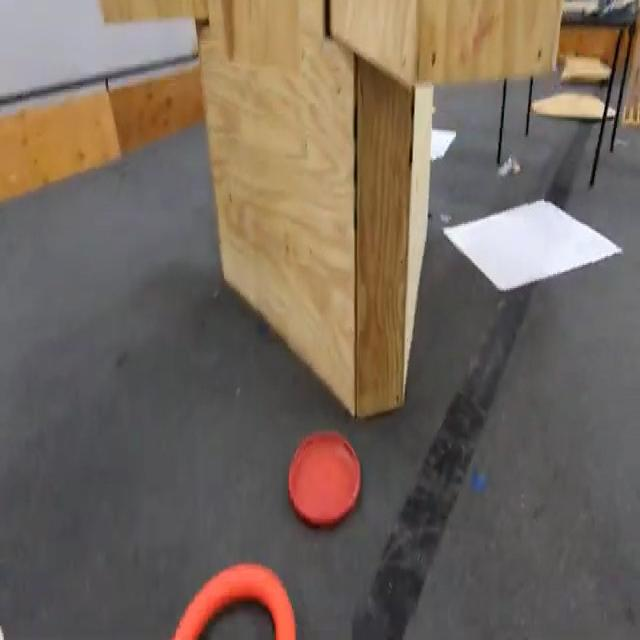note: (165, 560, 298, 640)
